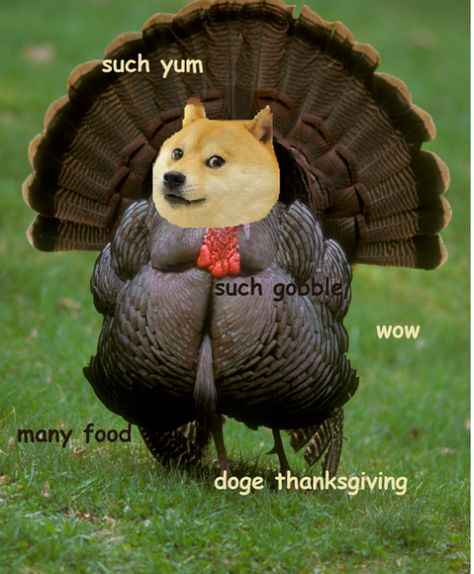doge: (142, 93, 283, 231)
